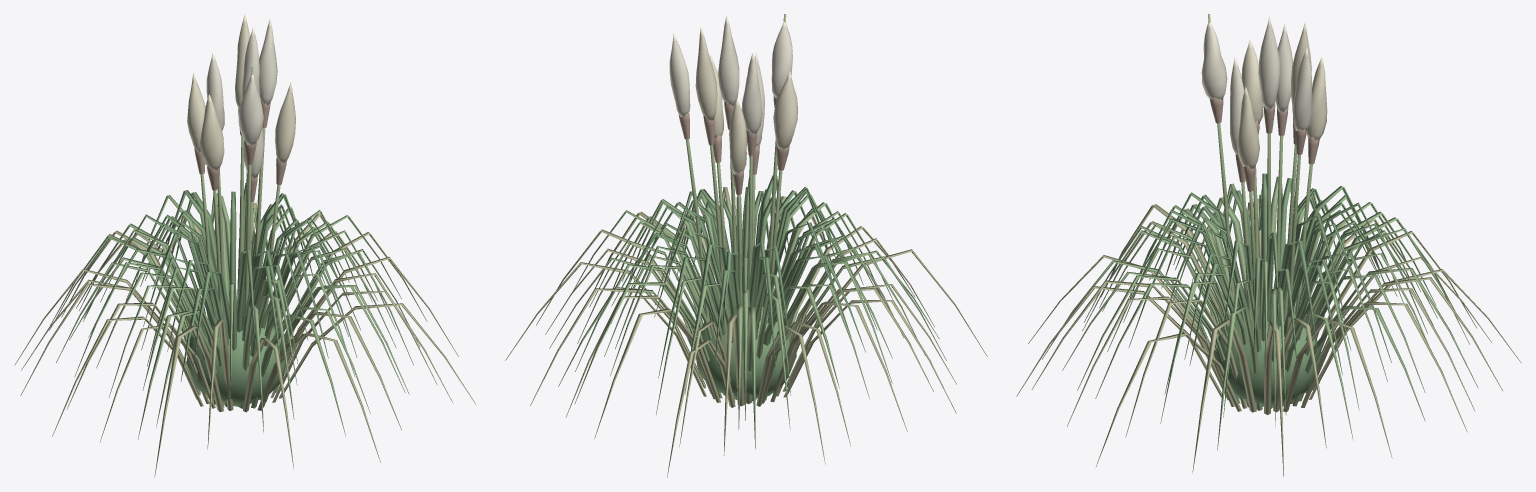
The model's file is pampas_cortadera_7.glb.
The picture shows the model from 3 angles, left to right: view 1: azimuth 30°, elevation 25°; view 2: azimuth 150°, elevation 25°; view 3: azimuth 270°, elevation 25°; orthographic projection. The views are drawn at different scales.
Visible parts, largest first — view 1: CortBladeMid, CortBladeDeep, CortBladeDry, CortPlumeSilk, CortPlumeGold, CortStalks, CortSheaths; view 2: CortBladeMid, CortBladeDeep, CortBladeDry, CortPlumeSilk, CortPlumeGold, CortStalks, CortSheaths; view 3: CortBladeMid, CortBladeDeep, CortBladeDry, CortPlumeSilk, CortStalks, CortPlumeGold, CortSheaths.
Boxes of the visible parts, x1,y1,x2,y2 form: CortBladeMid: (49, 193, 419, 439); CortBladeDeep: (88, 183, 360, 406); CortBladeDry: (14, 202, 476, 477); CortPlumeSilk: (206, 18, 277, 178); CortPlumeGold: (187, 14, 295, 170); CortStalks: (200, 67, 280, 323); CortSheaths: (194, 100, 287, 202); CortBladeMid: (549, 187, 946, 449); CortBladeDeep: (611, 175, 885, 400); CortBladeDry: (505, 187, 987, 477); CortPlumeSilk: (669, 15, 792, 147); CortPlumeGold: (695, 27, 797, 174); CortStalks: (686, 14, 786, 321); CortSheaths: (678, 95, 789, 194); CortBladeMid: (1042, 176, 1478, 450); CortBladeDeep: (1123, 173, 1427, 406); CortBladeDry: (1016, 195, 1521, 477); CortPlumeSilk: (1201, 16, 1311, 154); CortStalks: (1208, 14, 1312, 334); CortPlumeGold: (1237, 22, 1327, 169); CortSheaths: (1210, 97, 1319, 191).
Size of the model in its own units: 1.94 by 1.71 by 2.01.
